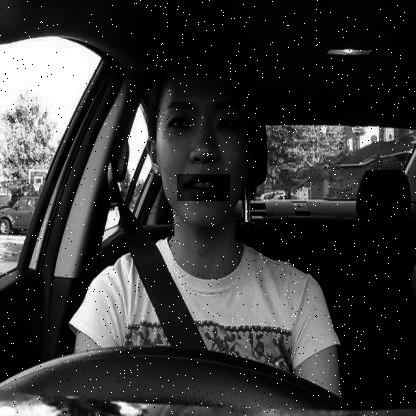seatbelt: (130, 19, 276, 347)
